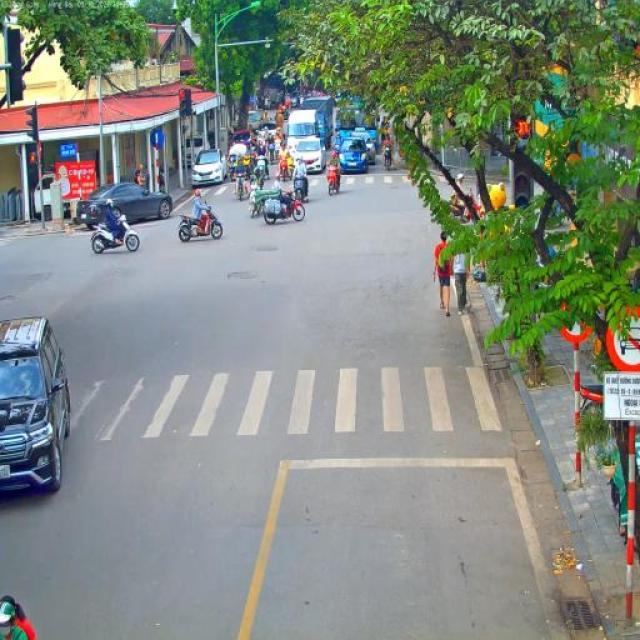car: (0, 314, 72, 496), (75, 183, 174, 228), (284, 135, 328, 175), (190, 148, 228, 186), (341, 126, 377, 165), (339, 136, 369, 174), (256, 120, 278, 141), (232, 128, 250, 144)
motorcycle: (90, 216, 140, 254), (176, 206, 224, 243), (262, 189, 306, 225), (248, 184, 278, 218), (292, 176, 308, 206), (326, 164, 340, 196), (236, 173, 250, 202), (253, 160, 266, 188), (381, 144, 393, 170), (278, 157, 290, 182), (242, 156, 252, 180), (264, 141, 274, 164), (227, 154, 236, 178), (272, 144, 282, 165), (247, 146, 254, 170), (288, 156, 294, 178), (333, 144, 342, 156)
truck: (286, 97, 336, 151), (336, 106, 379, 138), (262, 73, 282, 112), (247, 110, 263, 124)
